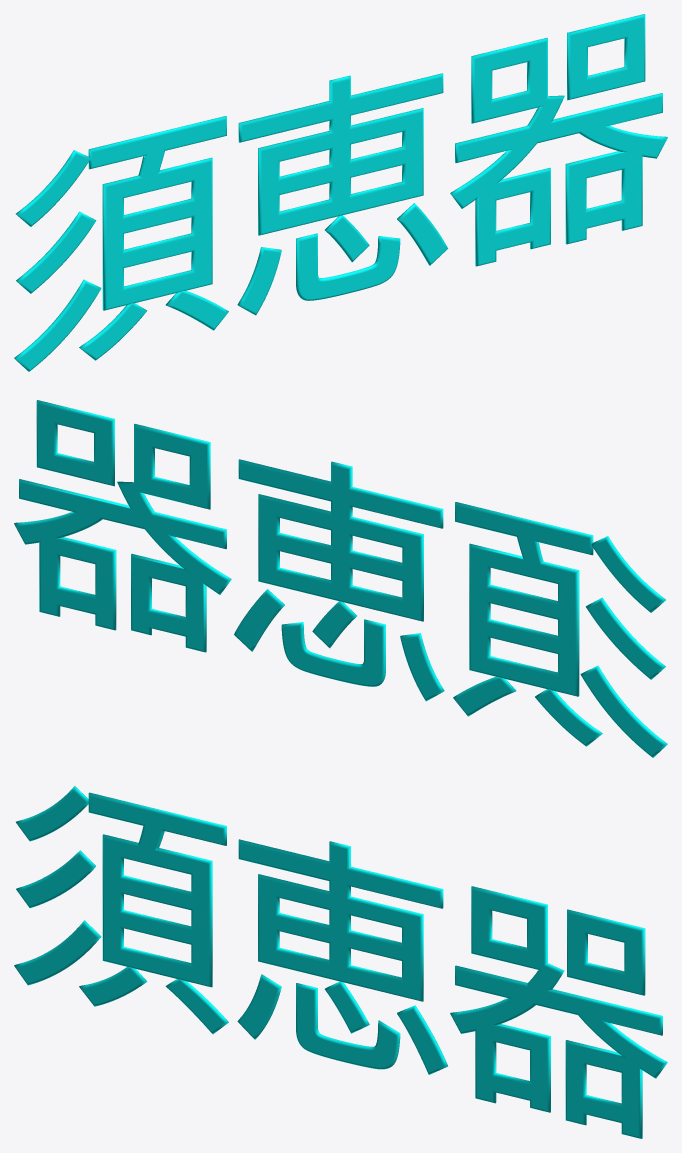
3 renders of one model, top to bottom at view 1: azimuth 30°, elevation 25°; view 2: azimuth 150°, elevation 25°; view 3: azimuth 330°, elevation 25°, orthographic.
Parts seen in each view (by area): view 1: テキスト; view 2: テキスト; view 3: テキスト.
Part boxes in pixels (bbox=[...]): テキスト: bbox=[14, 14, 667, 371]; テキスト: bbox=[14, 400, 667, 757]; テキスト: bbox=[14, 786, 667, 1138].
Size of the model in its own units: 3 by 0.9752 by 0.02.
